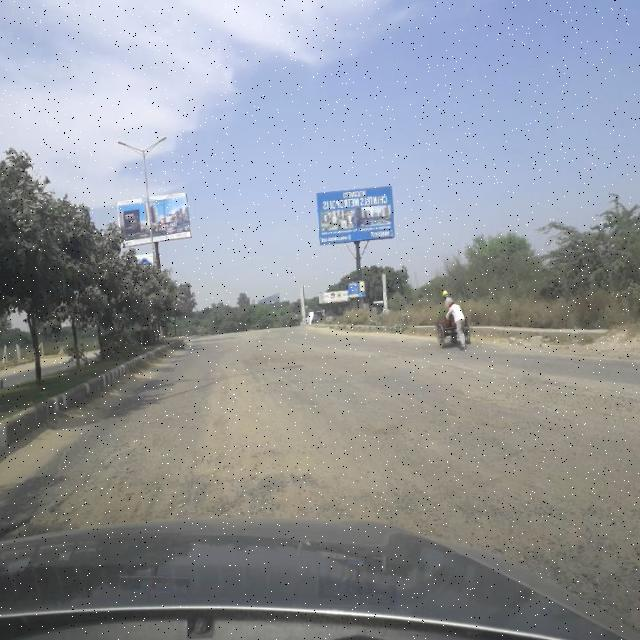D40: (6, 425, 467, 532)
